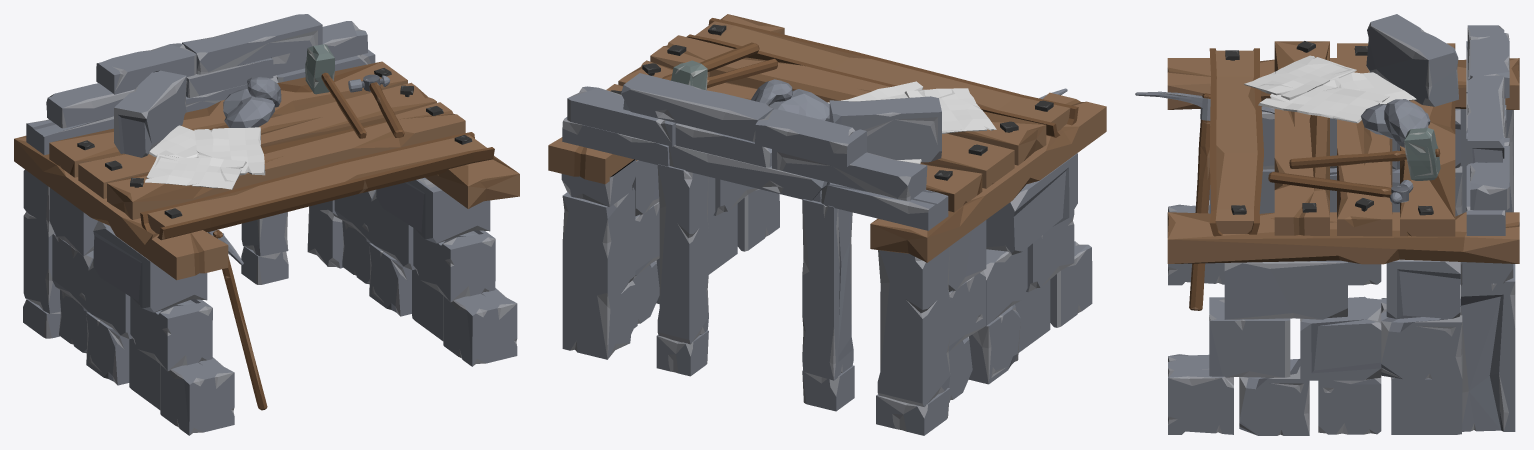
Rendered from mesh_stone_craftingbench.fbx.
The picture shows the model from 3 angles, left to right: view 1: azimuth 30°, elevation 25°; view 2: azimuth 150°, elevation 25°; view 3: azimuth 270°, elevation 25°; orthographic projection. The views are drawn at different scales.
Visible parts, largest first — view 1: mesh_stone_craftingbench; view 2: mesh_stone_craftingbench; view 3: mesh_stone_craftingbench.
Boxes of the visible parts, x1=… form: mesh_stone_craftingbench: x1=14, y1=14, x2=519, y2=435; mesh_stone_craftingbench: x1=548, y1=14, x2=1106, y2=435; mesh_stone_craftingbench: x1=1135, y1=14, x2=1519, y2=435.
Bounding box in the file's own units: 1.66 × 1.14 × 1.48.
